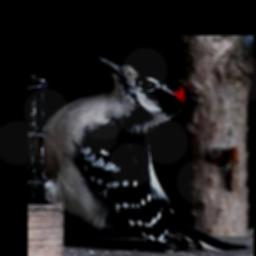Woodpecker: (34, 56, 249, 251)
